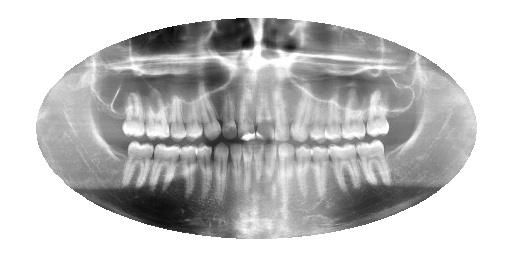i10healthy: (227, 140, 245, 206)
i11healthy: (207, 138, 232, 211)
i12healthy: (191, 137, 216, 213)
i13healthy: (174, 140, 200, 207)
i14healthy: (148, 138, 183, 203)
i15healthy: (119, 137, 155, 192)
i2healthy: (354, 131, 395, 190)
i3healthy: (324, 140, 364, 194)
i4healthy: (306, 141, 333, 199)
i5healthy: (291, 140, 316, 204)
i6healthy: (274, 141, 298, 211)
i7healthy: (259, 142, 281, 210)
i8healthy: (248, 139, 268, 214)
i9healthy: (236, 138, 255, 212)
u10healthy: (194, 74, 229, 145)
u11healthy: (175, 76, 207, 142)
u12healthy: (159, 76, 190, 145)
u13healthy: (136, 79, 171, 143)
u14healthy: (117, 83, 147, 141)
u2healthy: (360, 81, 392, 139)
u3healthy: (337, 85, 371, 143)
u4healthy: (320, 86, 345, 143)
u5healthy: (305, 84, 332, 145)
u6healthy: (286, 81, 314, 144), (267, 84, 293, 145)
u7healthy: (249, 81, 276, 144)
u8healthy: (233, 77, 260, 143)
u9healthy: (212, 83, 243, 144)
